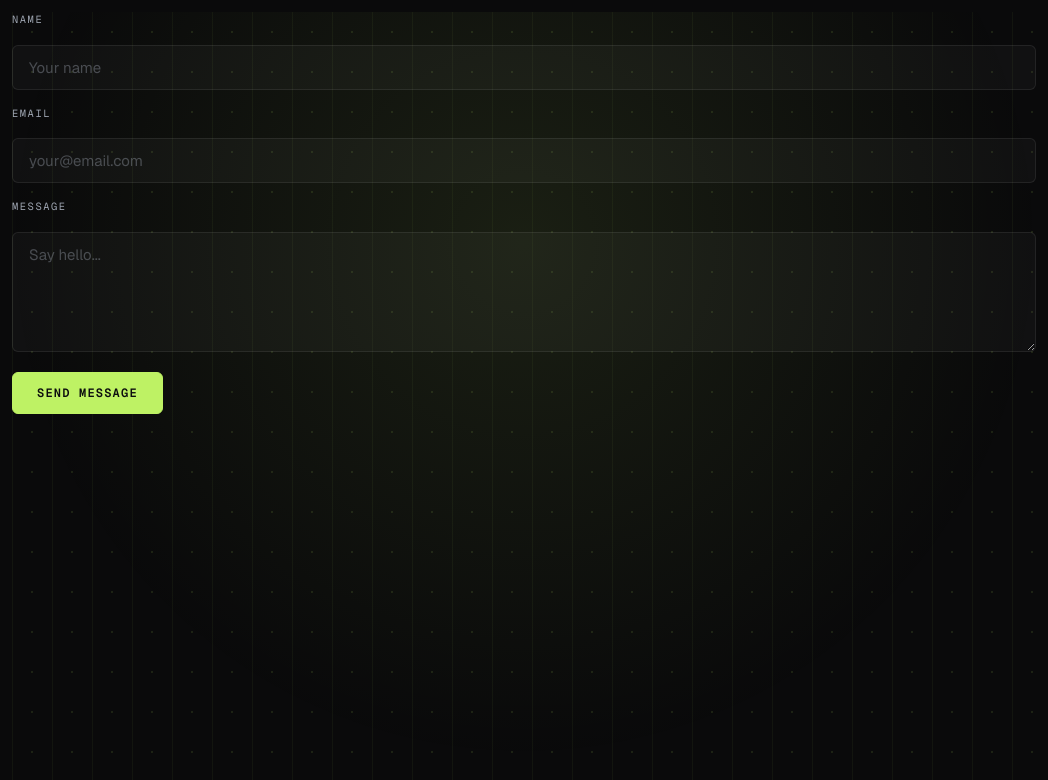
ContactForm › submits through Netlify on production host
Type "Matt" into the field labelled "Name" at x=524, y=67, box [12,45,1036,90]
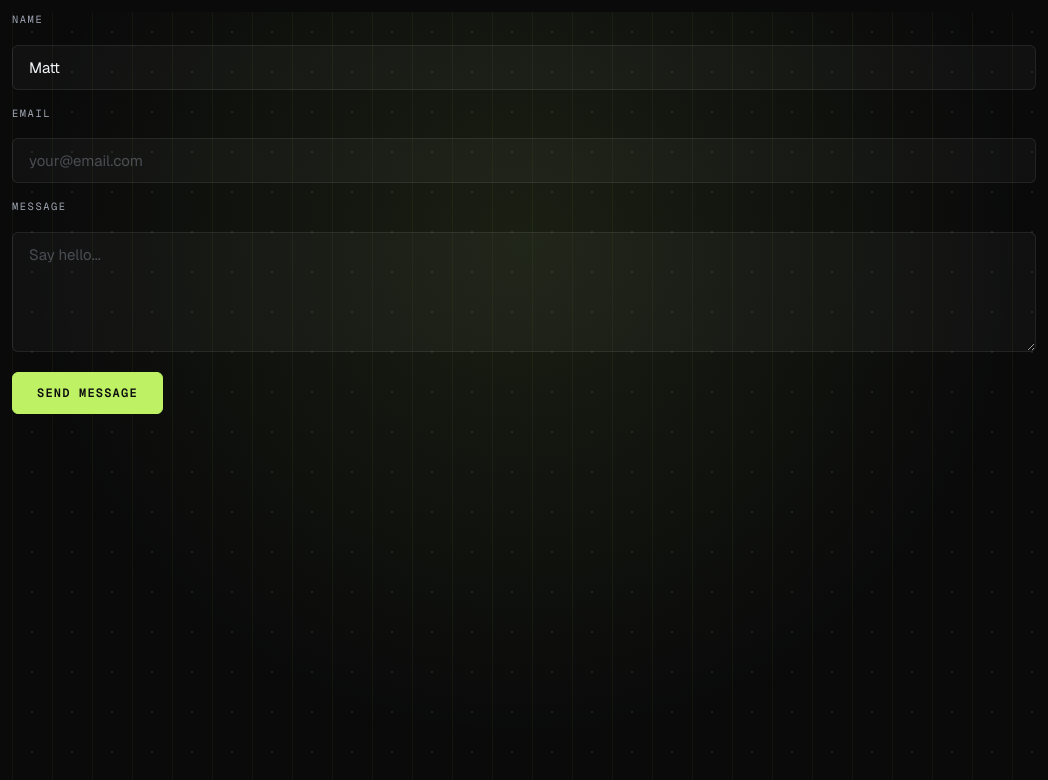
Type "hi@example.com" into the field labelled "Email" at x=524, y=161, box [12,138,1036,183]
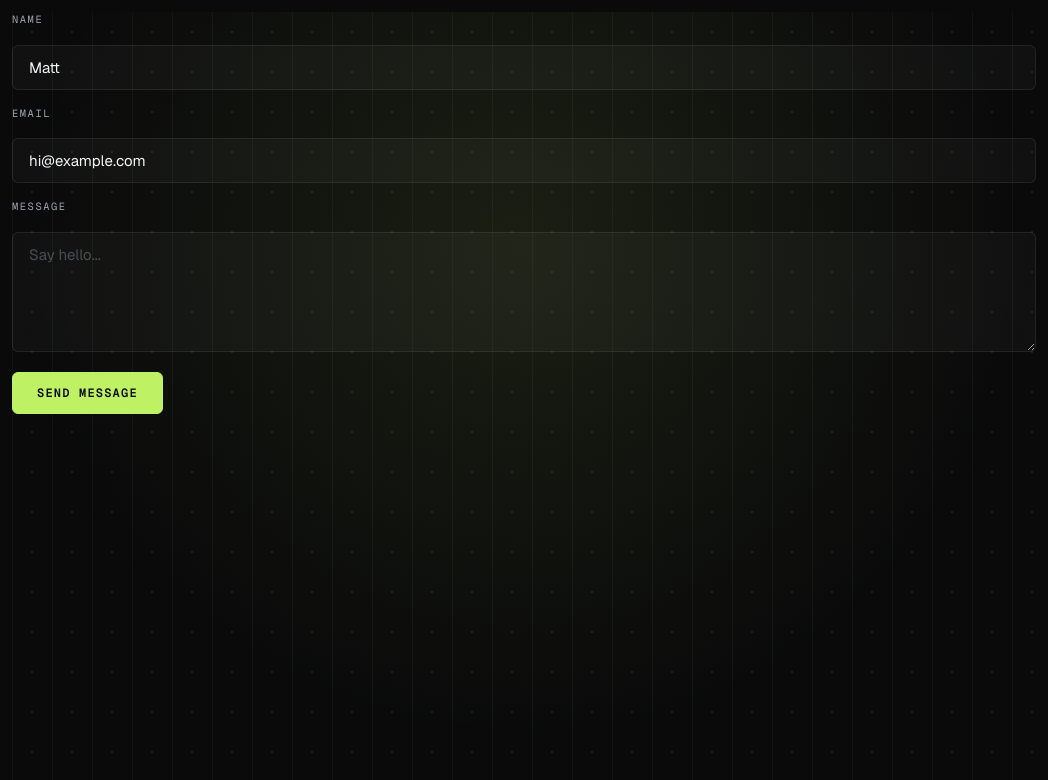
Type "Hello" into the text box labelled "Message" at x=524, y=292, box [12,232,1036,352]
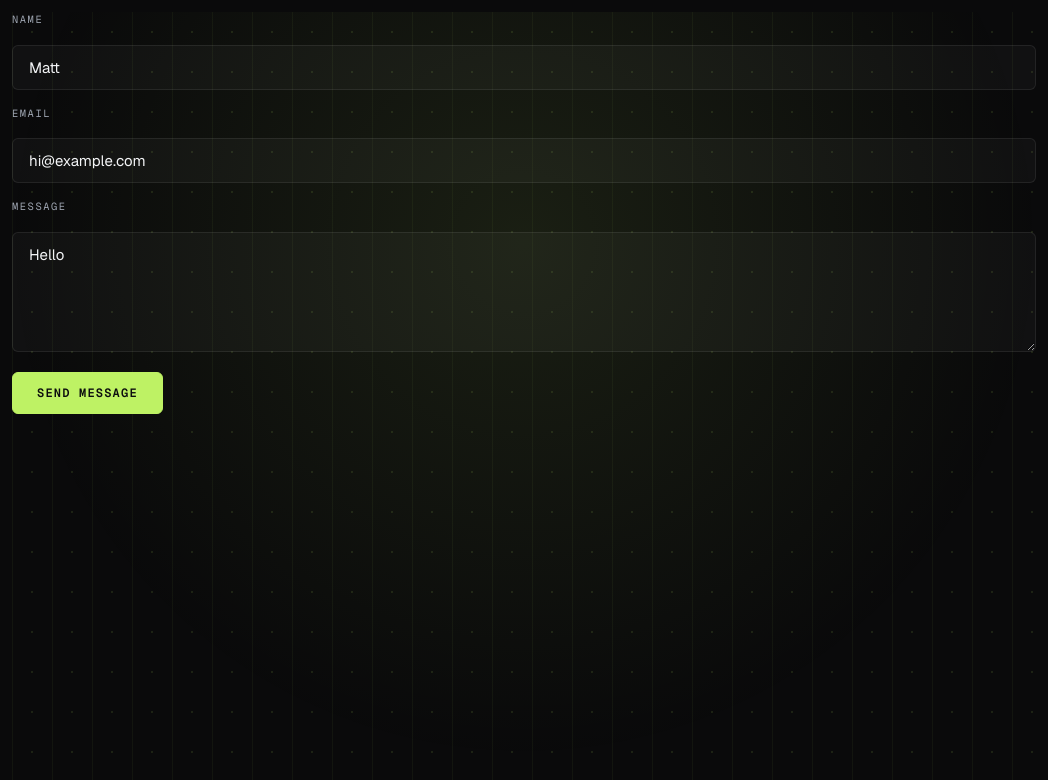
Click the button "Send message" at x=87, y=393, box [12,372,163,414]
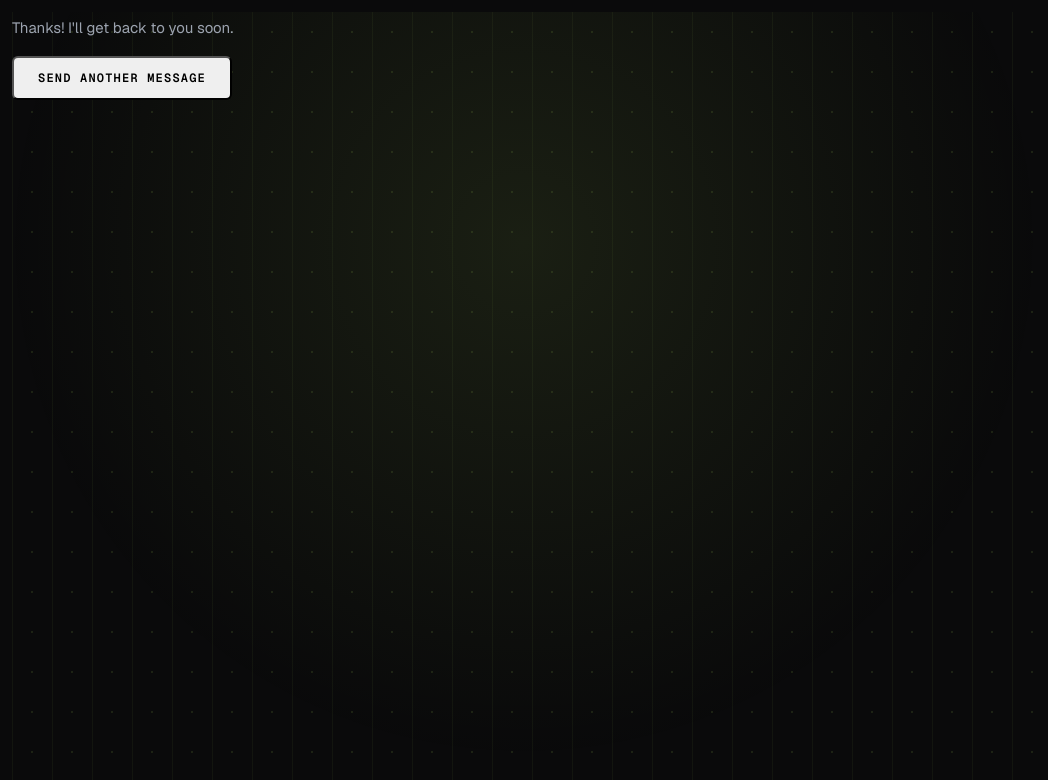
Result: the text "Thanks! I'll get back to you soon." is shown at [12,18,233,37]
